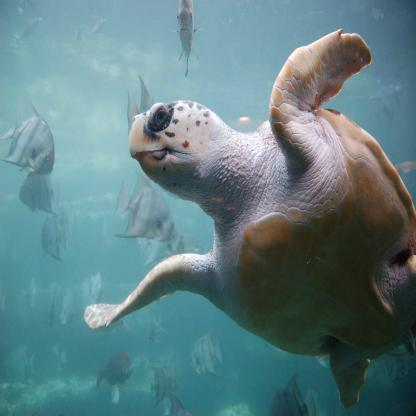turtle: (125, 93, 214, 207)
